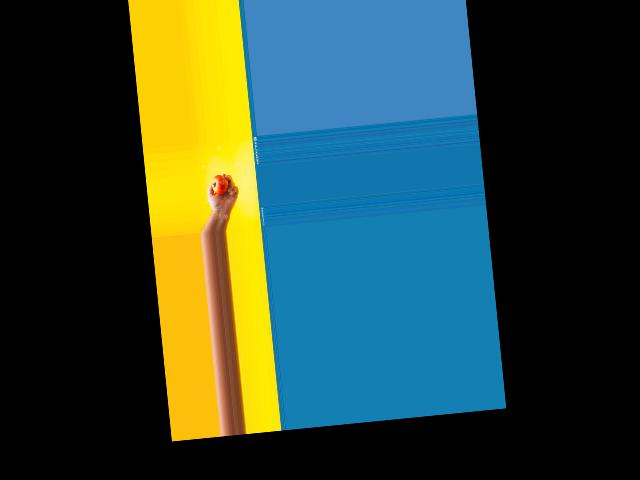tomato: (211, 174, 229, 195)
